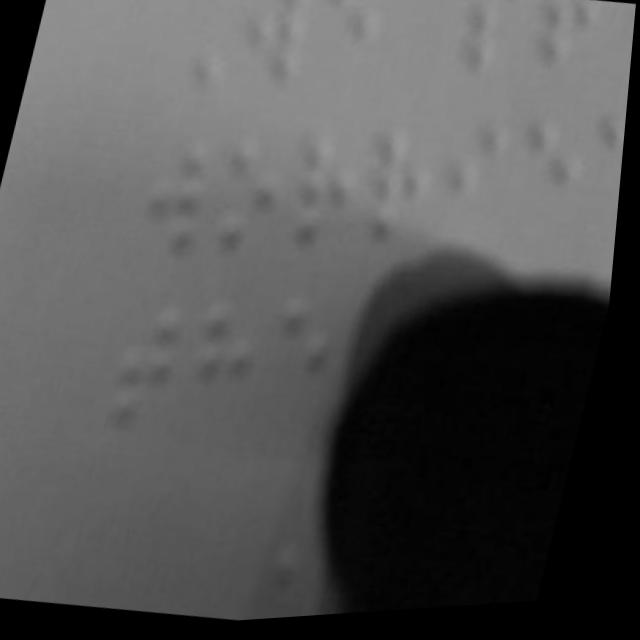braiile: (260, 289, 367, 450), (182, 298, 283, 459), (111, 291, 210, 452), (362, 121, 466, 271), (136, 133, 235, 287), (290, 117, 390, 269), (210, 126, 314, 271), (503, 116, 599, 270), (436, 117, 531, 264), (240, 0, 337, 104)
